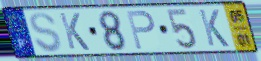5: (164, 7, 198, 51)
8: (96, 10, 128, 53)
K: (196, 8, 231, 49), (57, 11, 92, 52)
P: (124, 10, 156, 51)
S: (29, 11, 63, 54)
